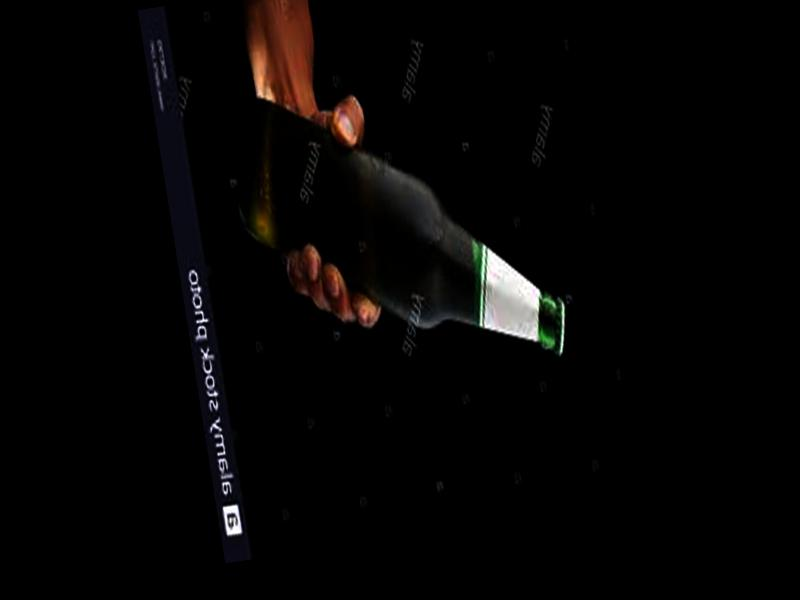Beer: (219, 56, 574, 405)
